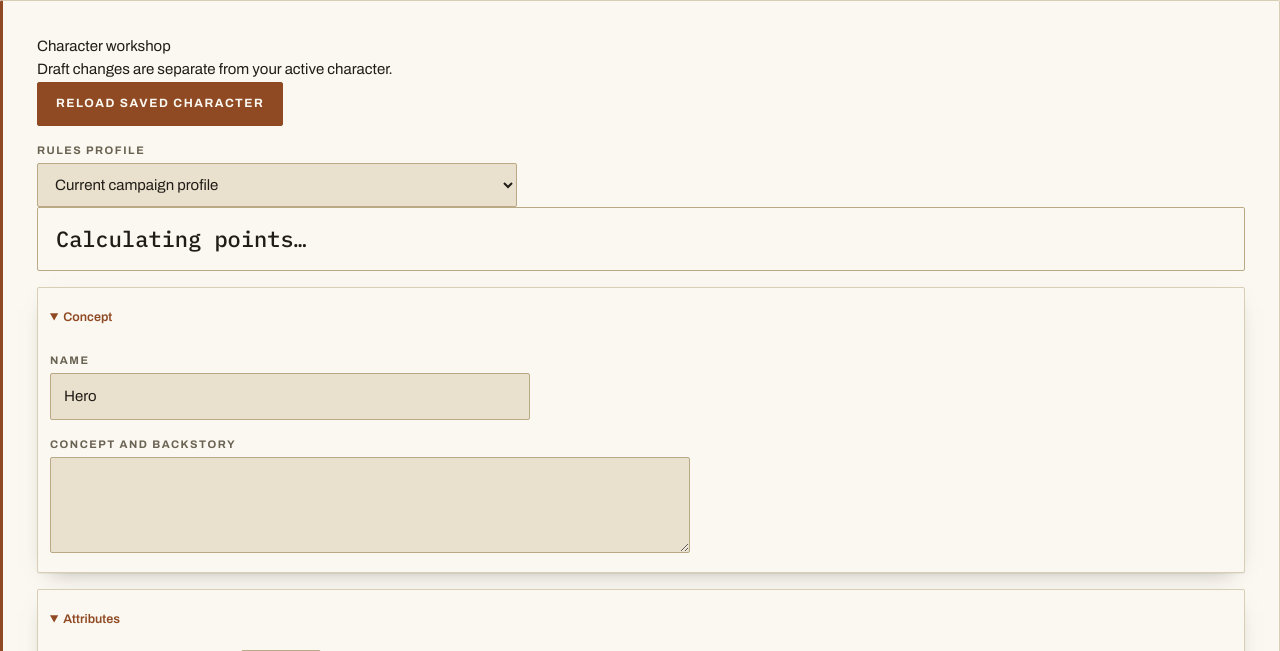
Test: treats another version of the same profile as preview-only, and uses the campaign compiler for its exact version
Step 1. Select "Example (v3)" in the dropdown labelled "Rules profile" → point(277, 184), box left=37, top=162, right=517, bottom=206
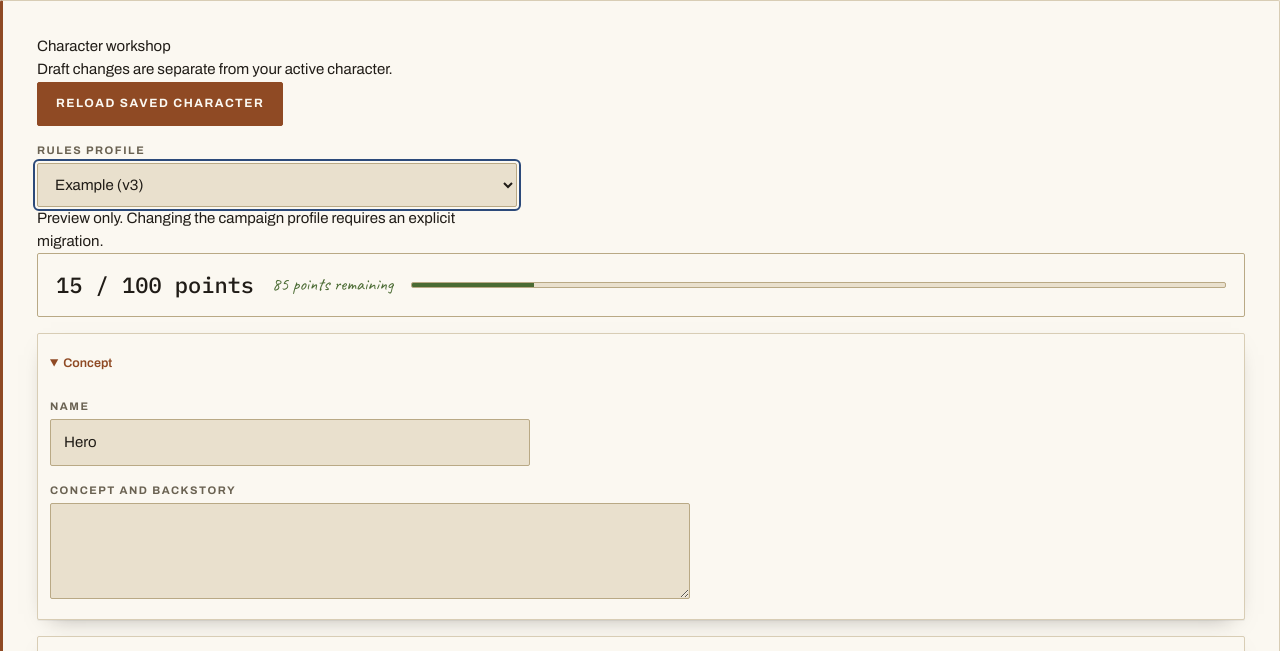
Check: the text "Preview only. Changing the campaign profile requires an explicit migration." is shown, box left=37, top=206, right=518, bottom=253
Step 2. Select "Example (v2)" in the dropdown labelled "Rules profile" → point(277, 184), box left=37, top=162, right=517, bottom=206
(page scrolled)
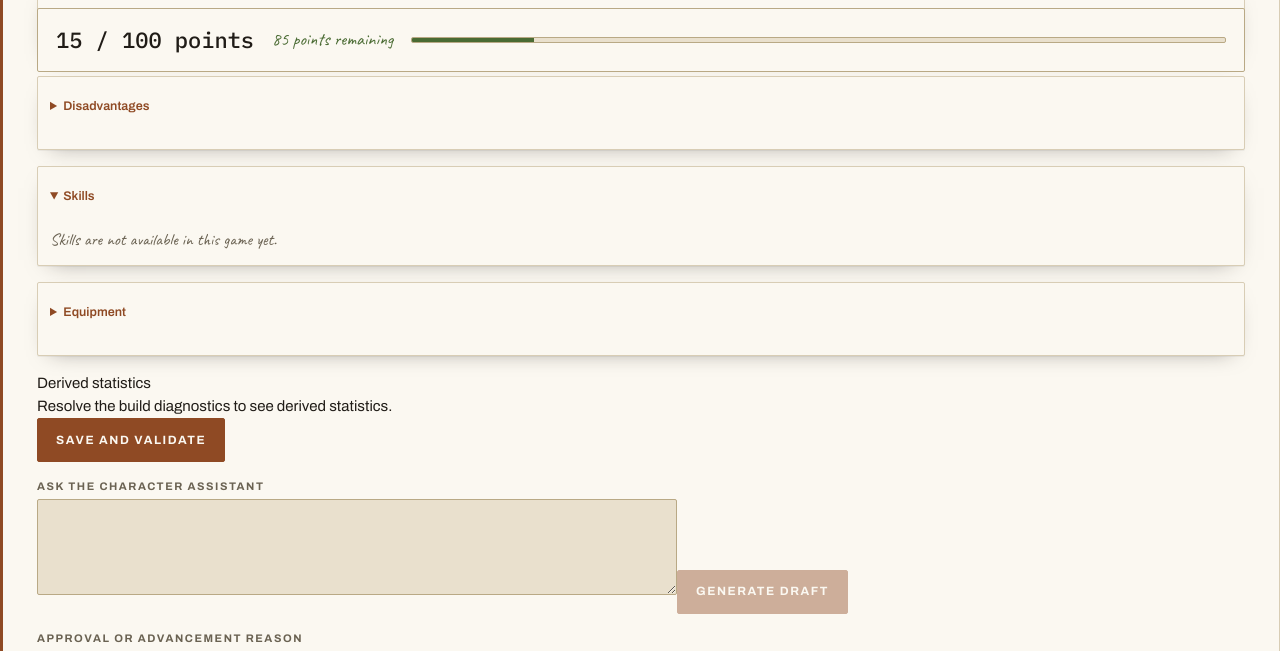
Check: the button "Save and validate" is enabled, box left=37, top=418, right=225, bottom=462
